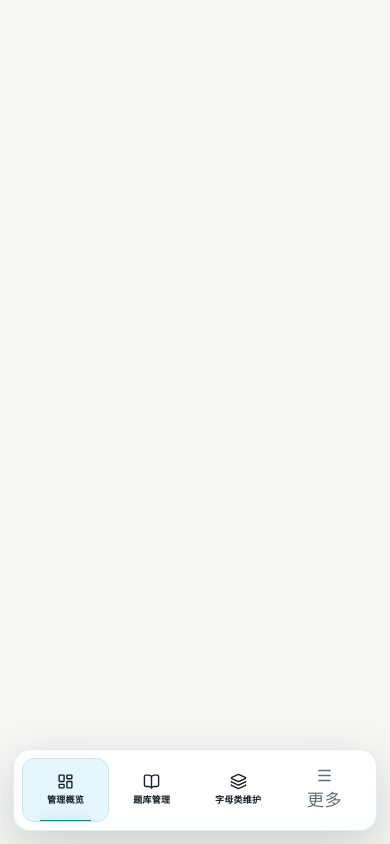
Test case: application shell › makes every teacher section reachable on mobile
Click the button with aria-label "打开更多导航" at (325, 790), box x1=281 y1=758 x2=368 y2=822
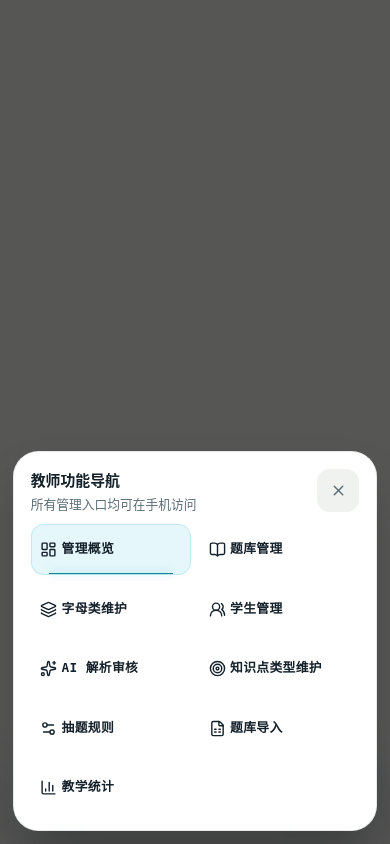
Now the link "管理概览" is shown, box x1=31 y1=524 x2=191 y2=575
Now the link "题库管理" is shown, box x1=209 y1=541 x2=283 y2=558
Now the link "字母类维护" is shown, box x1=40 y1=601 x2=127 y2=618
